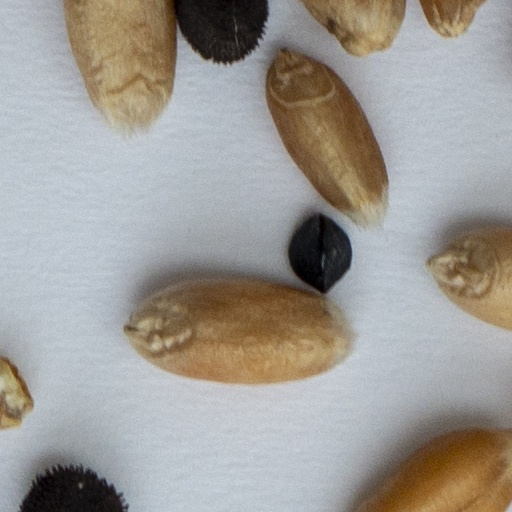Wheat-grain-damaged-poly: (0, 352, 38, 432)
